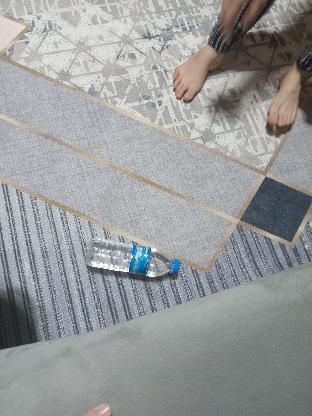Plastic Bottle: (85, 239, 180, 279)
